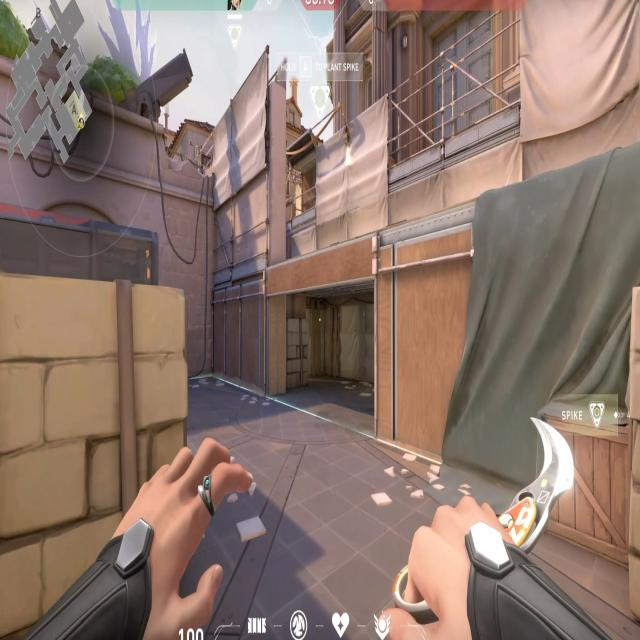A_Heaven_Wall: (205, 32, 305, 279)
A_Hell: (256, 231, 395, 445)
